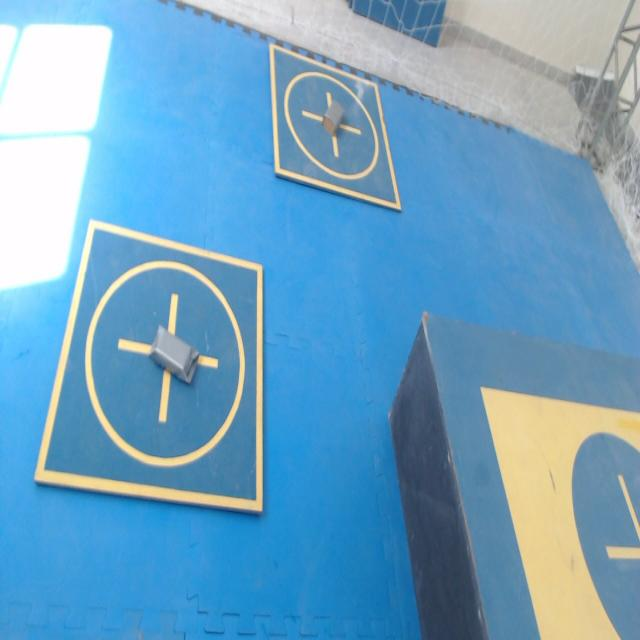direita: (322, 92, 344, 134)
esquerda: (150, 325, 198, 383)
